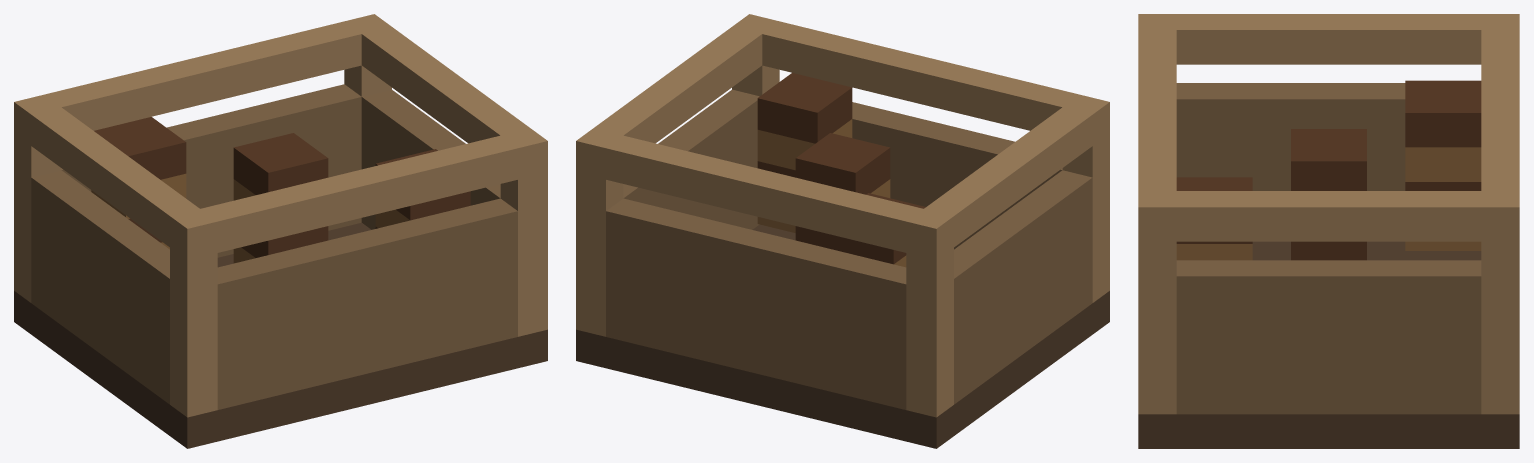
File: pine_cone_low.glb
The picture shows the model from 3 angles, left to right: view 1: azimuth 30°, elevation 25°; view 2: azimuth 150°, elevation 25°; view 3: azimuth 270°, elevation 25°; orthographic projection. The views are drawn at different scales.
Visible parts, largest first — view 1: VoxelVisual; view 2: VoxelVisual; view 3: VoxelVisual.
Boxes of the visible parts, x1,y1,x2,y2 form: VoxelVisual: [14, 14, 547, 448]; VoxelVisual: [576, 14, 1109, 448]; VoxelVisual: [1138, 14, 1519, 448].
Size of what is drawn, in the model's own units: 0.75 by 0.4375 by 0.625.
